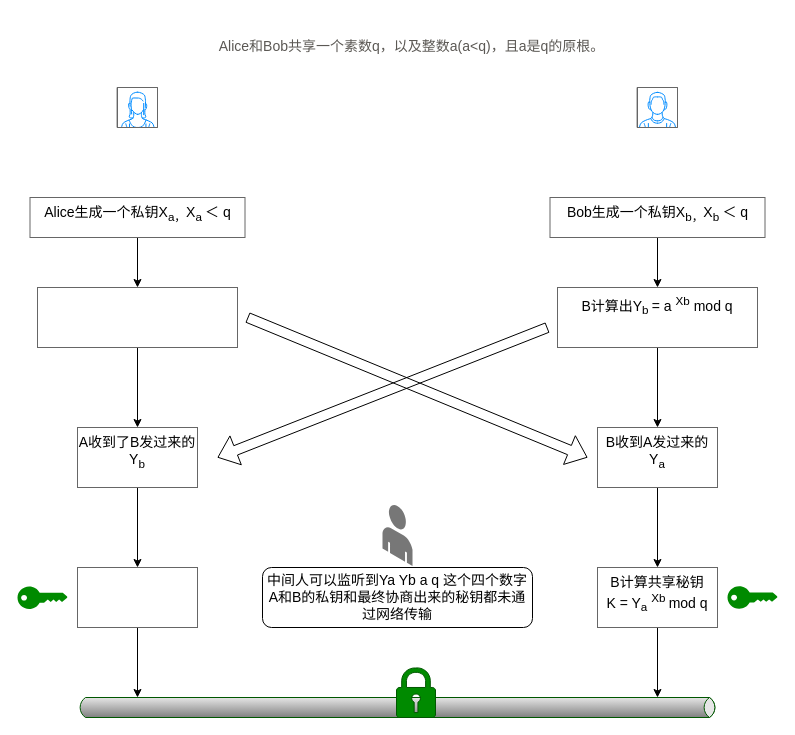
This 795x735 diagram has some shape labels left out. Each missing label, with the centre of its shape:
"Alice" belongs at (x=137, y=107).
"A计算共享秘钥 K = Y b Xa mod q" belongs at (x=137, y=597).
"A计算出Y a = a Xa mod q" belongs at (x=137, y=317).
"Bob" belongs at (x=657, y=107).
